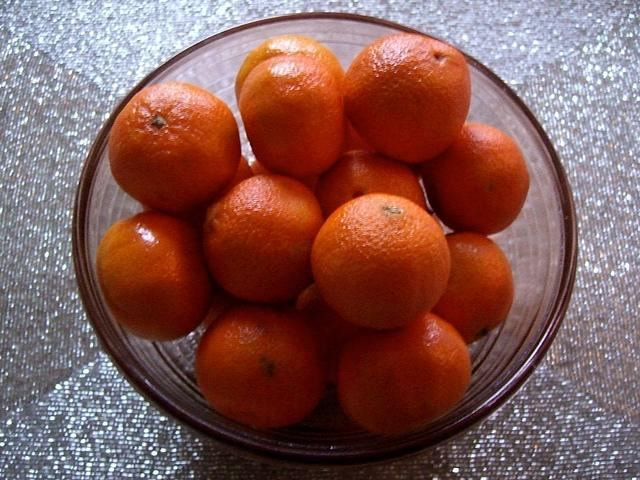orange: (310, 192, 452, 332), (108, 82, 242, 214), (340, 31, 474, 161), (195, 301, 329, 428), (336, 313, 471, 436), (202, 176, 324, 304), (96, 212, 215, 342), (238, 55, 348, 180), (422, 122, 530, 237), (430, 232, 514, 344), (234, 35, 346, 114), (142, 154, 253, 231), (315, 148, 426, 221), (344, 119, 420, 178), (296, 282, 357, 352), (202, 282, 248, 330)
